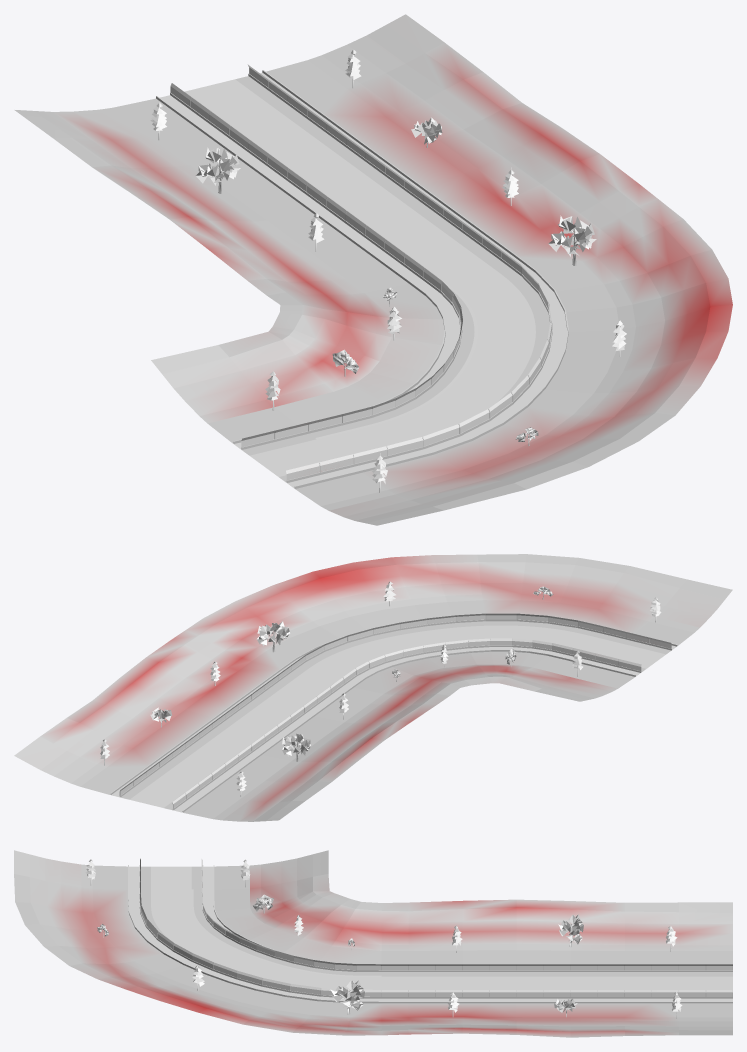
3 views of the same model, one above another, from view 1: azimuth 30°, elevation 25°; view 2: azimuth 150°, elevation 25°; view 3: azimuth 270°, elevation 25° (orthographic). The views are drawn at different scales.
Visible parts, largest first — view 1: Grass, Road, Track, Wirefence, Trees; view 2: Grass, Road, Track, Wirefence, Trees; view 3: Grass, Road, Track, Wirefence, Trees.
Part boxes in pixels (<box>): Grass: <box>14,14,732,525</box>; Road: <box>186,79,534,476</box>; Track: <box>156,64,568,488</box>; Wirefence: <box>171,65,551,480</box>; Trees: <box>150,49,626,492</box>; Grass: <box>14,554,732,821</box>; Road: <box>130,625,665,807</box>; Track: <box>110,613,677,812</box>; Wirefence: <box>120,613,671,808</box>; Trees: <box>100,581,661,796</box>; Grass: <box>14,850,732,1037</box>; Road: <box>151,866,732,989</box>; Track: <box>128,865,732,1003</box>; Wirefence: <box>140,858,732,996</box>; Trees: <box>85,859,682,1018</box>.
Size of what is drawn, in the model's own units: 19500 by 1702 by 32000.
